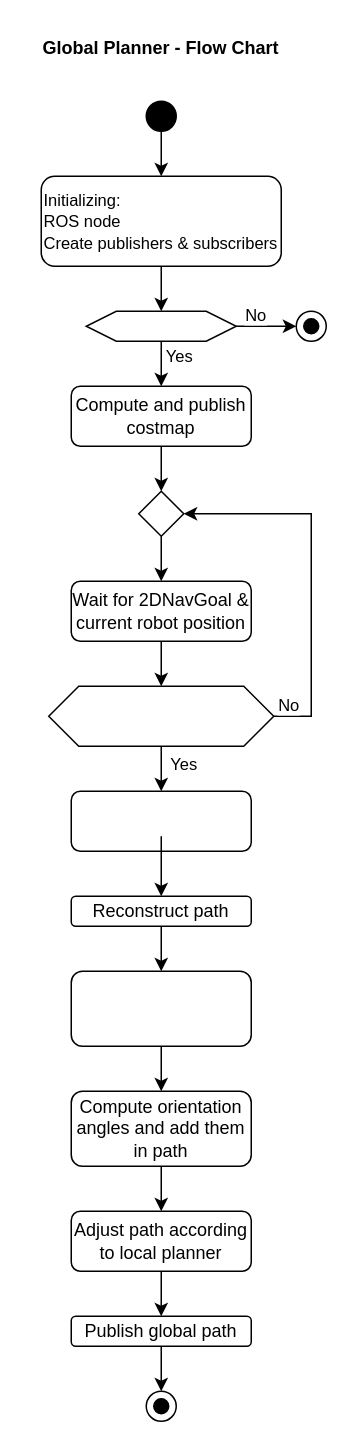
The diagram is 353 pixels wide and 1448 high, and some of its shapes have lost their labels. The centre of each missing label's shape, as x and y in pixels:
"Apply line-of-sight smoothing according to costmap" goes at (x=160, y=1008).
"Compute shortest path using Dijkstra" goes at (x=160, y=820).
"current_pose AND goal_pose not None?" goes at (x=160, y=715).
"Map exists?" goes at (x=160, y=325).
